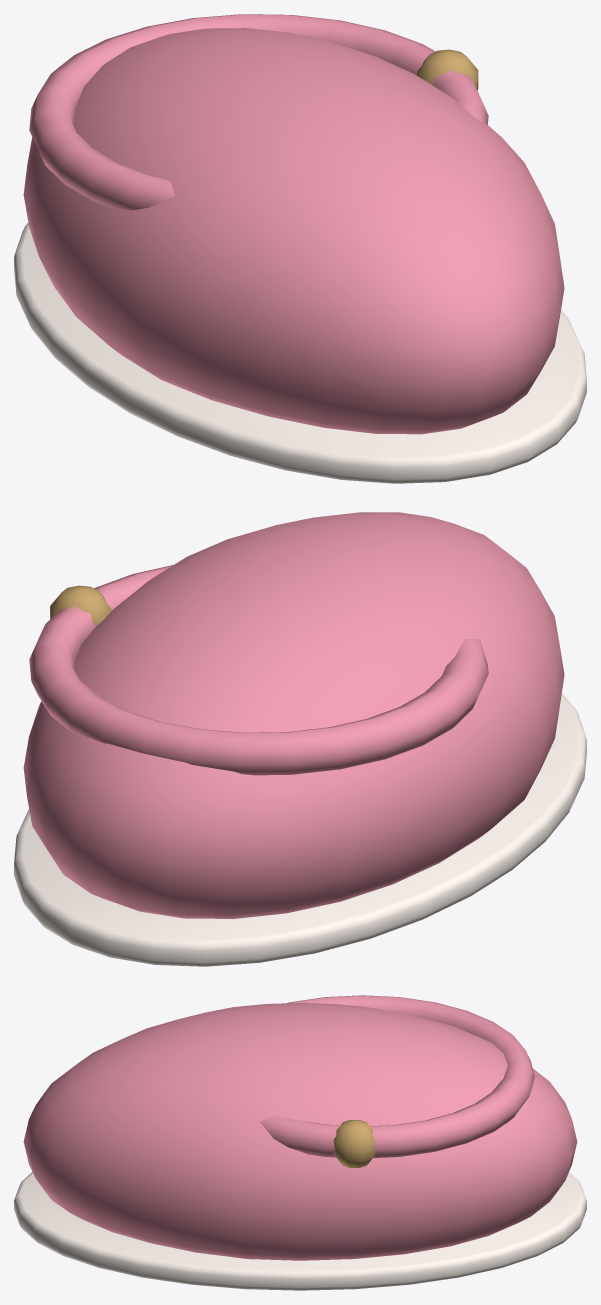
Rendered from char_shoe.glb.
3 renders of one model, top to bottom at view 1: azimuth 30°, elevation 25°; view 2: azimuth 150°, elevation 25°; view 3: azimuth 270°, elevation 25°, orthographic. The views are drawn at different scales.
Visible parts, largest first — view 1: Cylinder; view 2: Cylinder; view 3: Cylinder.
Boxes of the visible parts, x1=… form: Cylinder: x1=14, y1=14, x2=586, y2=483; Cylinder: x1=14, y1=512, x2=586, y2=966; Cylinder: x1=14, y1=995, x2=586, y2=1290.
Size of the model in its own units: 2.38 by 1.35 by 3.69.
